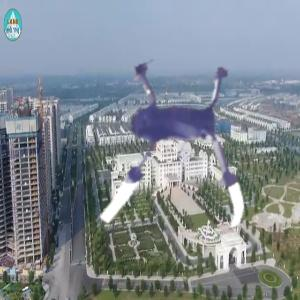drone: (59, 34, 281, 256)
